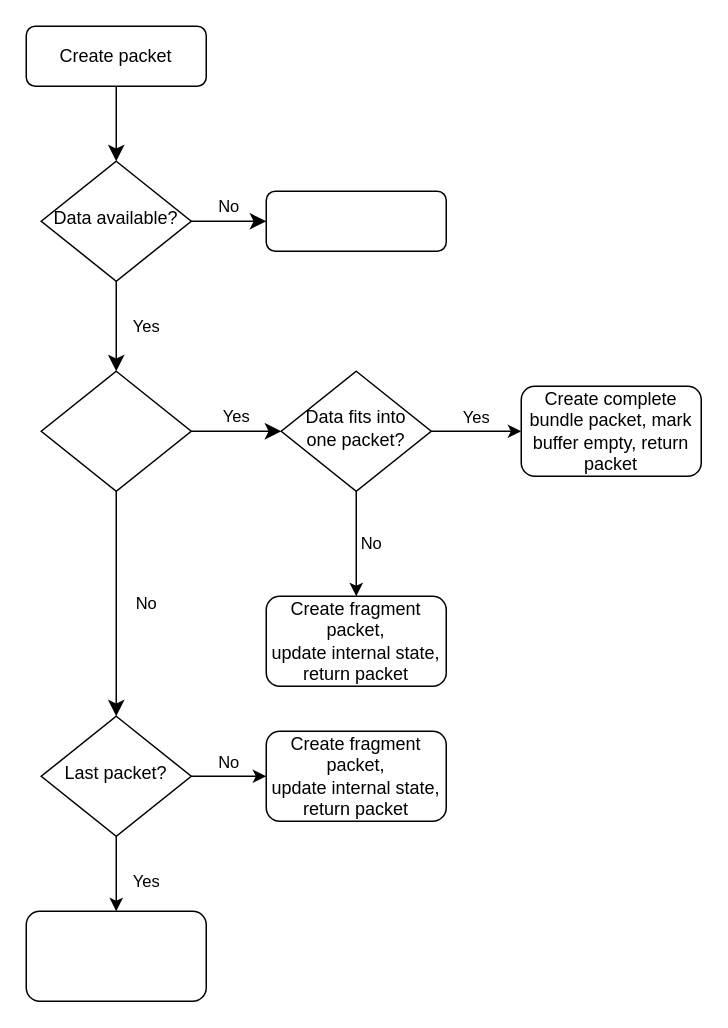
This 728x1028 diagram has some shape labels left out. Each missing label, with the centre of its shape:
"Create last fragment packet, mark buffer empty, return packet" goes at (x=115, y=955).
"Error" goes at (x=355, y=220).
"First packet?" goes at (x=115, y=430).
